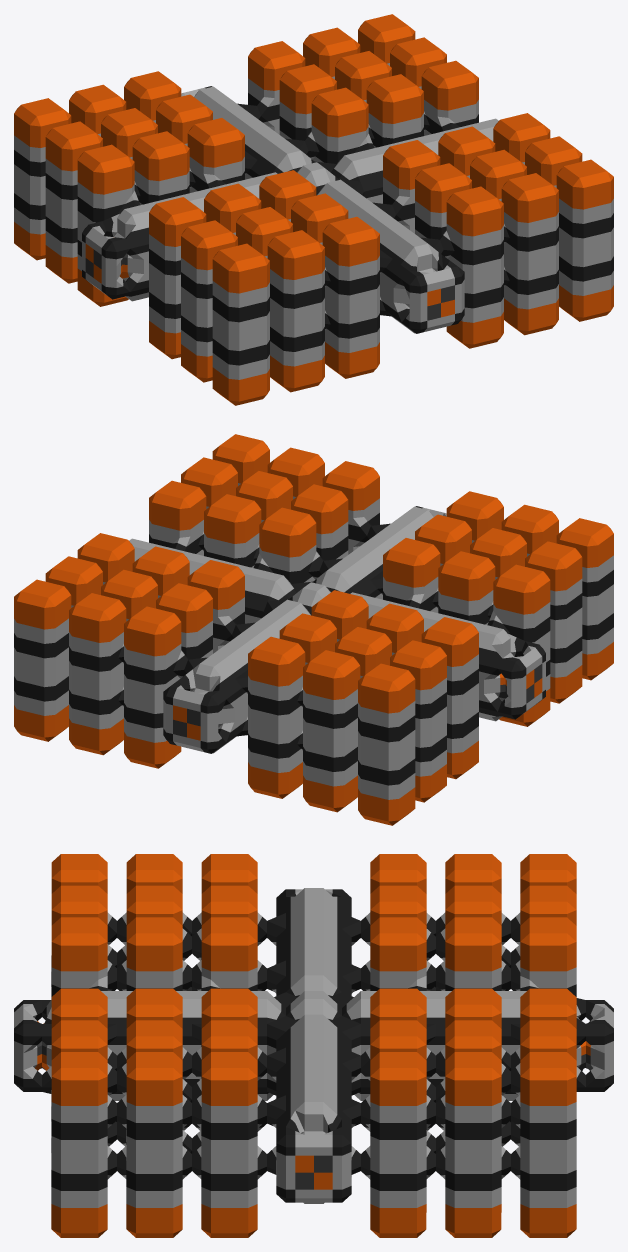
Rendered from reprocessing_medium.fbx.
3 views of the same model, one above another, from view 1: azimuth 30°, elevation 25°; view 2: azimuth 150°, elevation 25°; view 3: azimuth 270°, elevation 25° (orthographic). The views are drawn at different scales.
Visible parts, largest first — view 1: reprocessor_medium; view 2: reprocessor_medium; view 3: reprocessor_medium.
Part boxes in pixels (x1,y1,x2,y2): reprocessor_medium: [14, 14, 613, 405]; reprocessor_medium: [14, 434, 613, 825]; reprocessor_medium: [14, 854, 613, 1237].
Size of the model in its own units: 3200 by 1000 by 3200.
